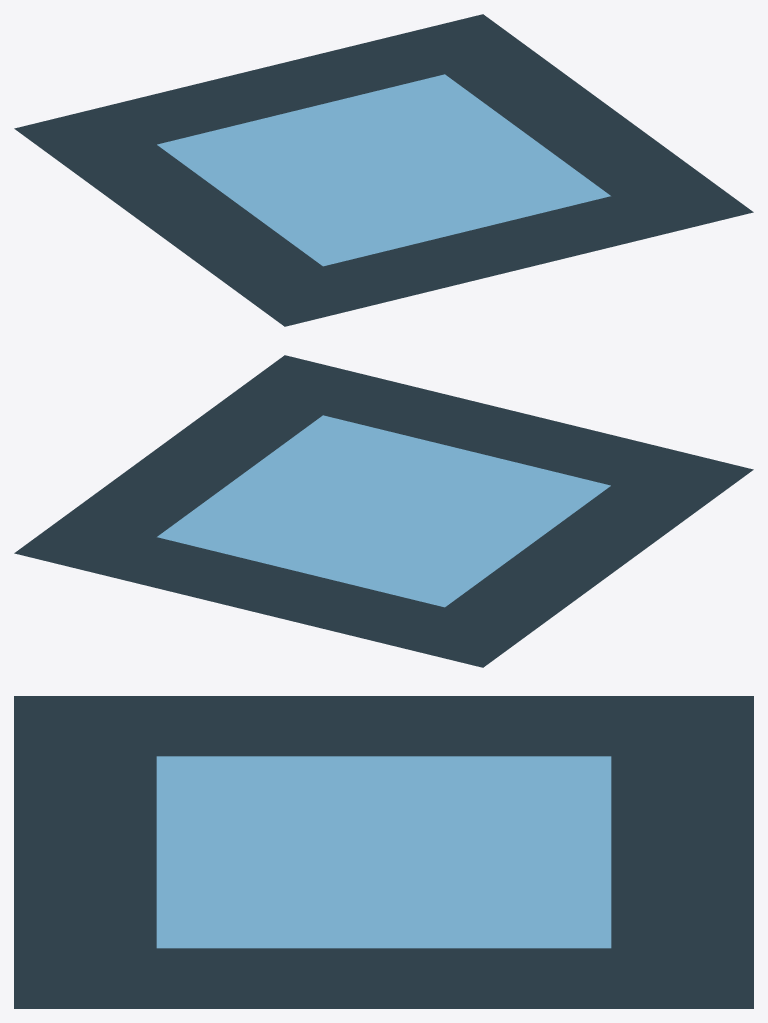
Rendered from Boat.fbx.
3 renders of one model, top to bottom at view 1: azimuth 30°, elevation 25°; view 2: azimuth 150°, elevation 25°; view 3: azimuth 270°, elevation 25°, orthographic. The views are drawn at different scales.
Parts seen in each view (by area): view 1: Ocean.001, Ocean; view 2: Ocean.001, Ocean; view 3: Ocean.001, Ocean.
Part boxes in pixels (<box>): Ocean.001: <box>14,14,753,326</box>; Ocean: <box>157,74,610,266</box>; Ocean.001: <box>14,355,753,667</box>; Ocean: <box>157,415,610,607</box>; Ocean.001: <box>14,696,753,1008</box>; Ocean: <box>156,756,611,948</box>.
Size of the model in its own units: 1166061 by 1019 by 1166061.
